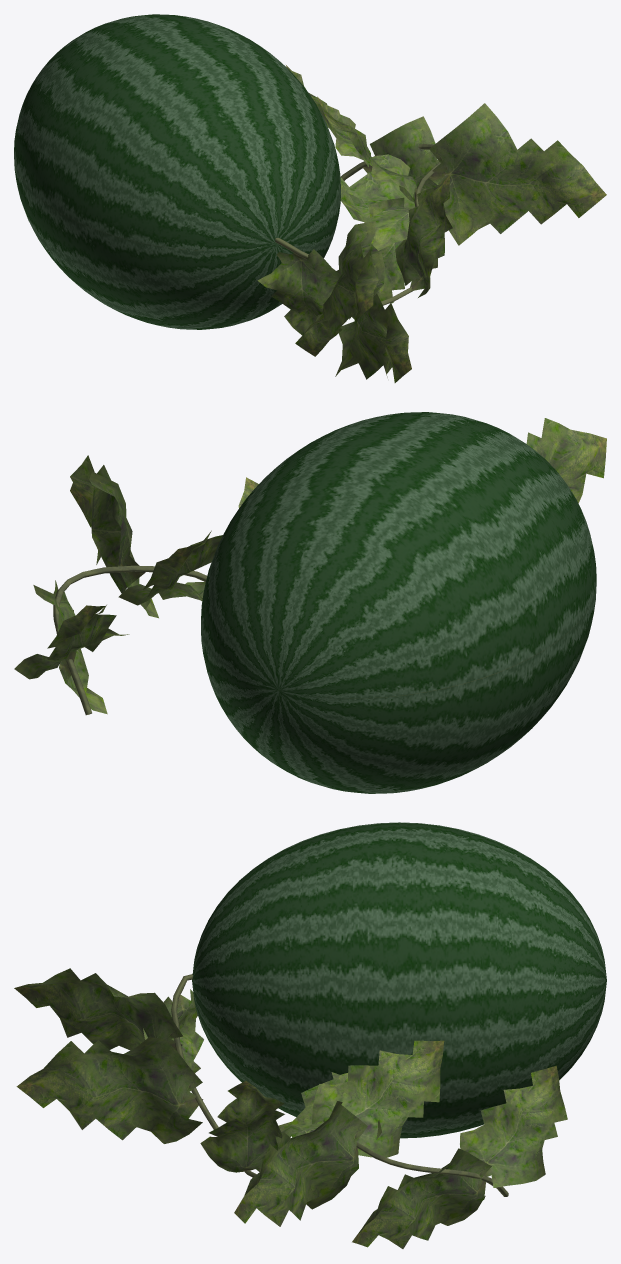
Rendered from model-3d-watermelon.glb.
3 views of the same model, one above another, from view 1: azimuth 30°, elevation 25°; view 2: azimuth 150°, elevation 25°; view 3: azimuth 270°, elevation 25° (orthographic). The views are drawn at different scales.
Parts seen in each view (by area): view 1: Sphere.001; view 2: Sphere.001; view 3: Sphere.001.
Part boxes in pixels (x1,y1,x2,y2): Sphere.001: [14, 14, 606, 382]; Sphere.001: [14, 412, 606, 793]; Sphere.001: [14, 822, 606, 1248].
Size of the model in its own units: 3.64 by 1.99 by 3.7.
Materials: 2 (2 with a texture image).
